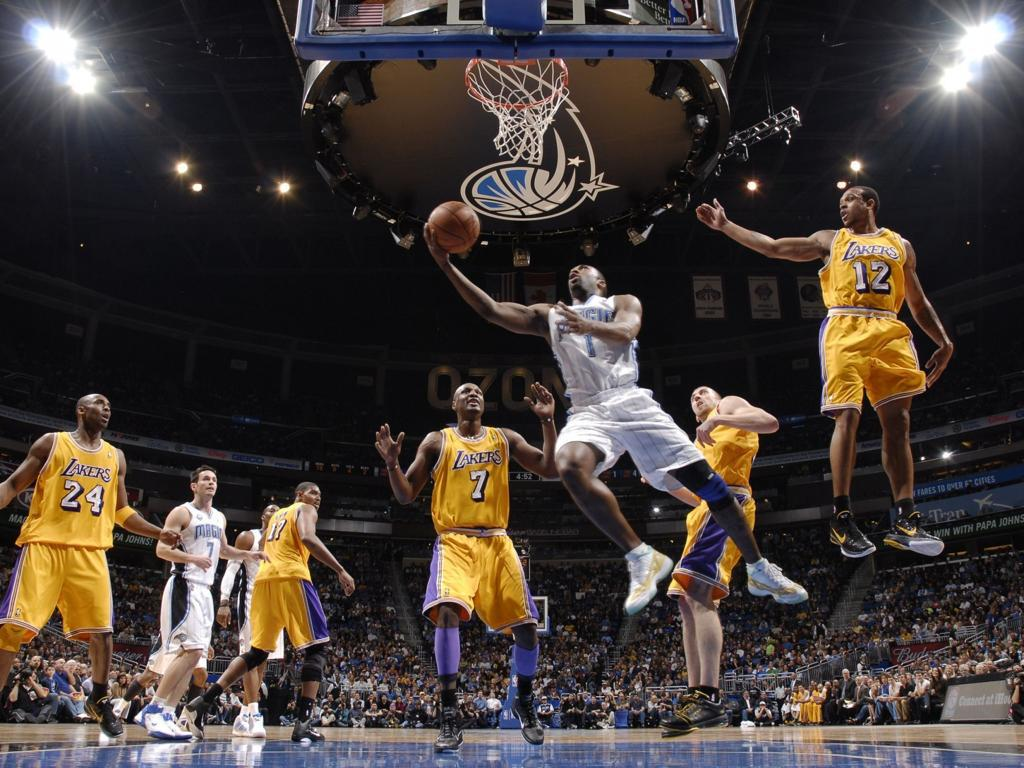face: (840, 191, 867, 227), (87, 396, 112, 428), (456, 384, 485, 411), (568, 265, 600, 287), (691, 388, 716, 416), (196, 471, 217, 496), (304, 485, 321, 511), (267, 507, 282, 525), (32, 657, 40, 666), (14, 659, 21, 668), (25, 677, 32, 685), (48, 668, 55, 676), (971, 664, 978, 672), (59, 660, 65, 669), (69, 663, 75, 672), (152, 675, 159, 682), (1014, 678, 1021, 685), (882, 676, 888, 684), (933, 669, 939, 677), (917, 674, 923, 681), (962, 668, 968, 675), (963, 654, 969, 661), (977, 667, 983, 674), (121, 676, 126, 684), (763, 678, 768, 686), (147, 682, 153, 688), (888, 678, 894, 684), (946, 669, 952, 675), (844, 671, 849, 678), (906, 676, 911, 683), (953, 664, 958, 671), (987, 662, 992, 669), (982, 664, 987, 671), (87, 669, 91, 677), (31, 641, 36, 647), (744, 692, 749, 698), (760, 704, 765, 710), (833, 688, 838, 694), (856, 679, 861, 685), (1016, 667, 1022, 672), (1010, 647, 1015, 653), (996, 646, 1001, 652), (43, 661, 47, 668), (76, 667, 80, 674), (127, 677, 131, 684), (242, 691, 246, 698), (901, 675, 905, 682), (21, 647, 26, 652), (49, 656, 54, 661), (236, 692, 241, 697), (391, 704, 396, 709), (799, 686, 804, 691), (868, 681, 873, 686), (900, 667, 905, 672), (40, 647, 44, 653), (51, 648, 55, 654), (407, 691, 411, 697), (502, 682, 506, 688), (536, 698, 540, 704), (619, 694, 623, 700), (751, 682, 755, 688), (762, 693, 766, 699), (792, 674, 796, 680), (898, 676, 902, 682), (978, 656, 982, 662), (593, 697, 596, 704), (61, 647, 65, 652), (73, 646, 77, 651), (356, 695, 360, 700), (373, 705, 377, 710), (383, 696, 387, 701), (491, 684, 495, 689), (584, 695, 588, 700), (552, 688, 556, 693), (602, 705, 606, 710), (634, 696, 638, 701), (720, 690, 724, 695), (788, 690, 792, 695), (795, 687, 799, 692), (834, 681, 838, 686), (864, 677, 868, 682), (887, 672, 891, 677), (895, 677, 899, 682), (918, 659, 922, 664), (971, 651, 975, 656), (56, 645, 59, 651), (229, 689, 232, 695), (291, 700, 294, 706), (329, 695, 332, 701), (479, 692, 482, 698), (570, 695, 573, 701), (812, 682, 815, 688), (989, 653, 992, 659), (314, 702, 318, 706), (543, 699, 547, 703), (986, 645, 990, 649), (67, 648, 70, 653), (342, 696, 345, 701), (410, 698, 413, 703), (421, 694, 424, 699), (436, 684, 439, 689), (397, 691, 400, 696), (606, 697, 609, 702), (654, 698, 657, 703), (622, 671, 625, 676), (819, 687, 822, 692), (826, 683, 829, 688), (862, 657, 865, 662), (925, 665, 928, 670), (929, 658, 932, 663), (976, 647, 979, 652), (295, 687, 298, 691), (371, 695, 374, 699), (398, 698, 401, 702), (435, 696, 438, 700), (427, 684, 430, 688), (464, 695, 467, 699), (484, 686, 487, 690), (506, 681, 509, 685), (492, 679, 495, 683), (604, 684, 607, 688), (663, 697, 666, 701), (810, 686, 813, 690), (749, 668, 752, 672), (769, 665, 772, 669), (935, 660, 938, 664), (984, 636, 987, 640), (760, 667, 762, 671), (785, 666, 787, 669)
